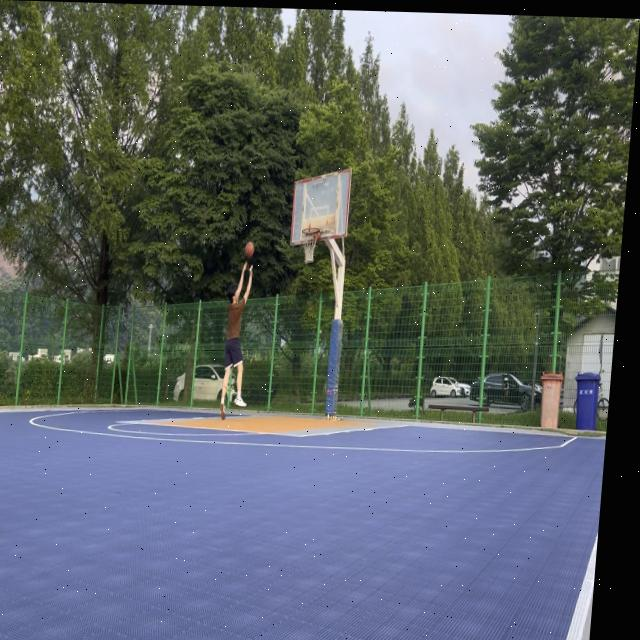basketball: (244, 241, 256, 259)
hoop: (299, 227, 321, 265)
